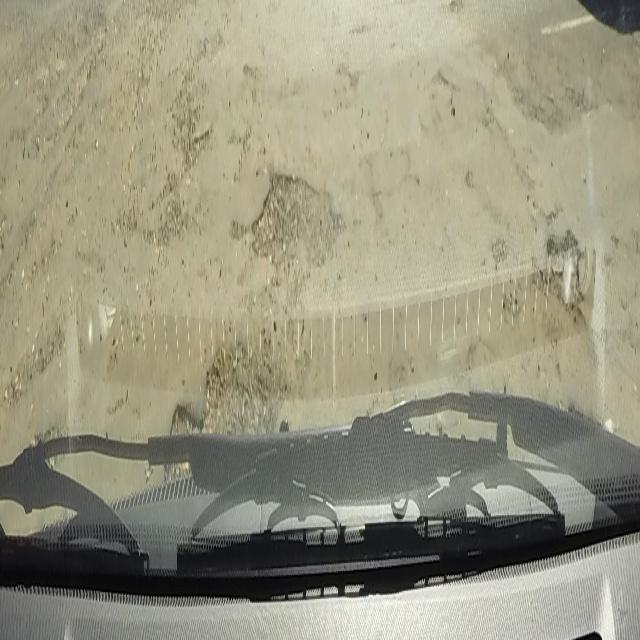pothole: (161, 338, 278, 480), (250, 158, 343, 275), (532, 220, 590, 324)
